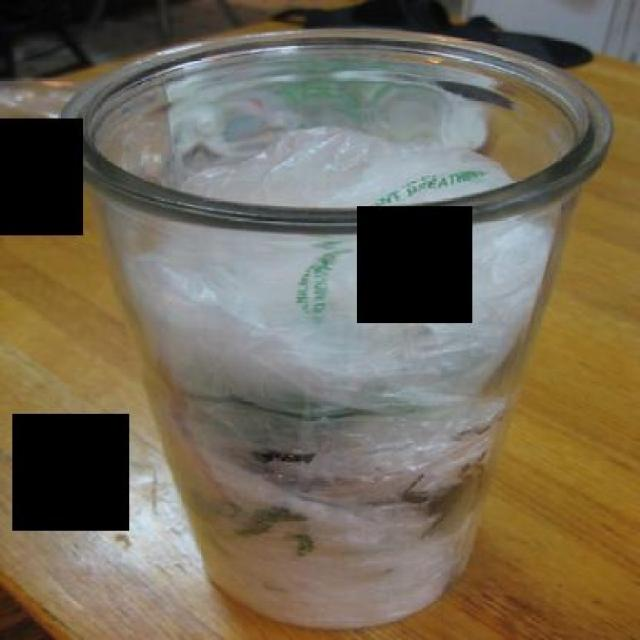plastic bag: (92, 106, 574, 628)
